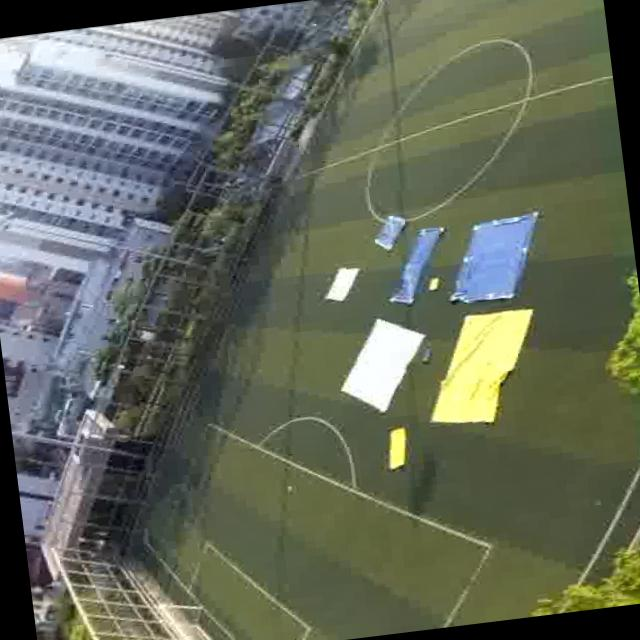danger: (448, 213, 541, 298), (371, 212, 412, 246), (394, 258, 425, 301)
safety: (346, 318, 413, 404), (323, 261, 366, 296)
warning: (435, 322, 521, 421), (376, 422, 416, 474)
